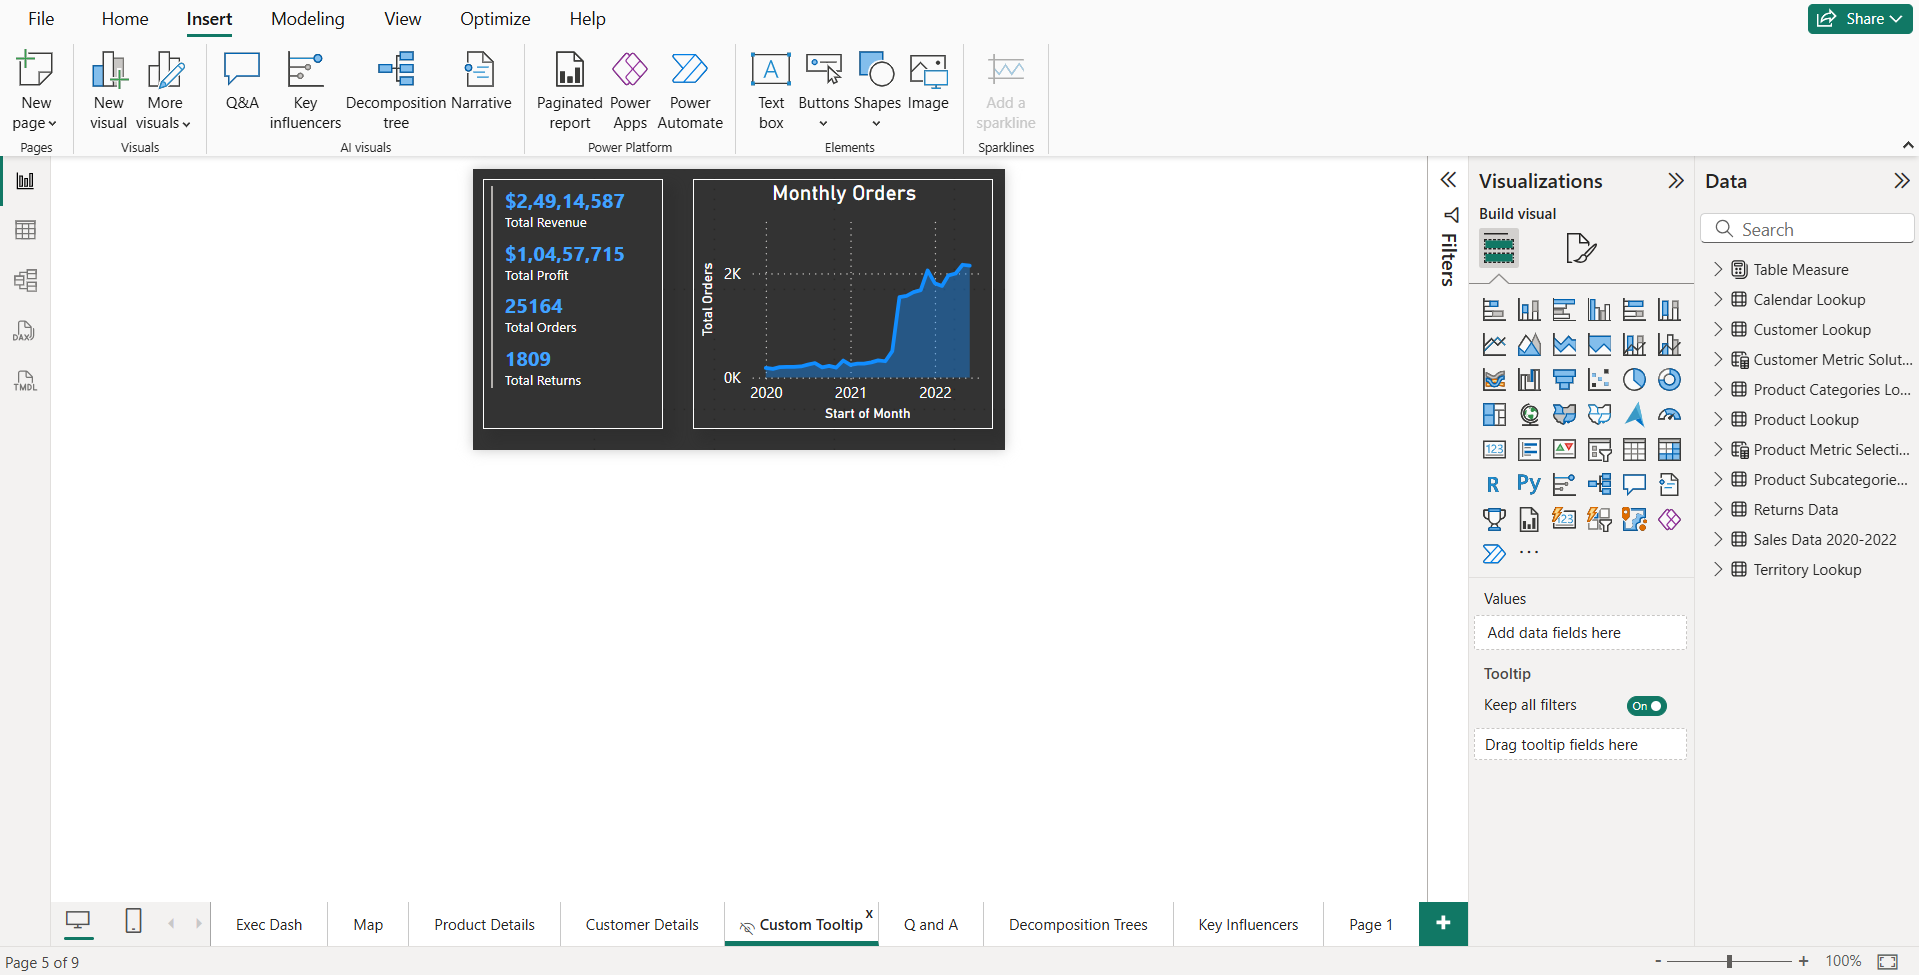

The dashboard page shown, as its layout file describes it:
{"tool":"powerbi","page":{"name":"Custom Tooltip","canvas":[425,225],"ordinal":4},"visuals":[{"type":"multiRowCard","fields":{"Values":["Table Measure.Total Revenue","Table Measure.Total Profit","Table Measure.Total Orders","Table Measure.Total Returns"]},"box":[8,8,144,200],"z":0},{"type":"areaChart","title":"Monthly Orders","fields":{"Category":["Calendar Lookup.Start of Month"],"Y":["Table Measure.Total Orders"]},"box":[176,8,240,200],"z":1000}]}

Visuals, with their boxes on the page's 425x225 design canvas (x1, y1, x2, y2). These are canvas units, not pixel positions in the 1919x975 screenshot, which may show the page scaled, cropped or inside an application window:
multiRowCard - Table Measure.Total Revenue x Table Measure.Total Profit: (left=8, top=8, right=152, bottom=208)
"Monthly Orders" areaChart: (left=176, top=8, right=416, bottom=208)
